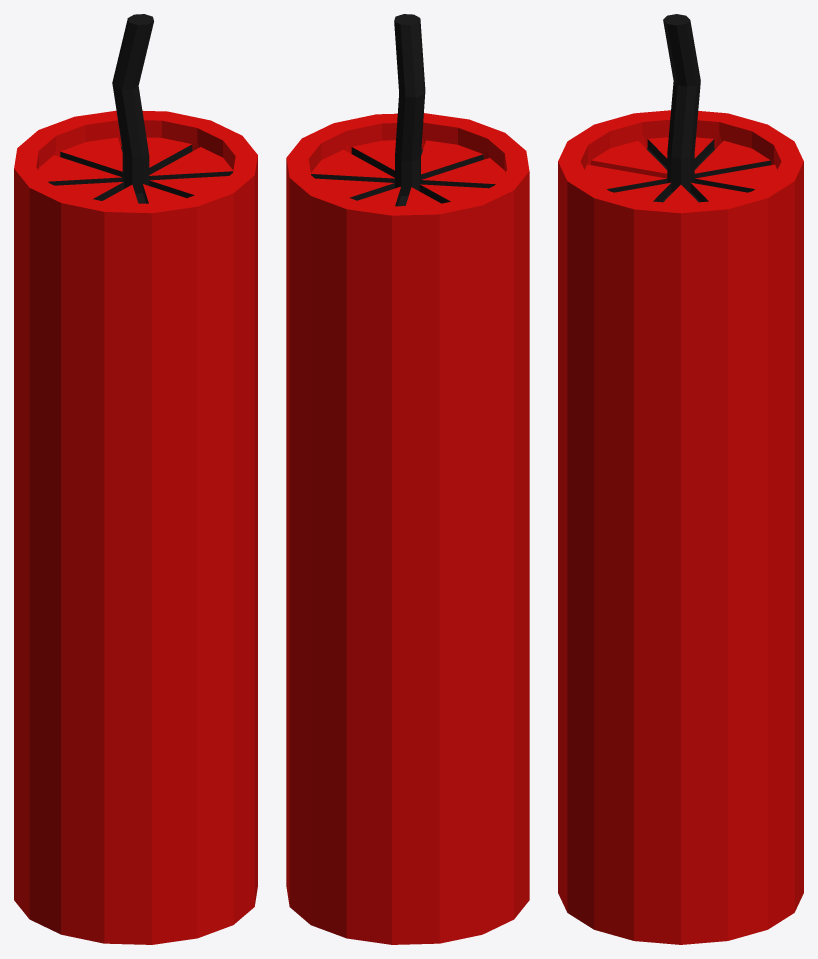
Rendered from Dynamite.fbx.
3 renders of one model, left to right at view 1: azimuth 30°, elevation 25°; view 2: azimuth 150°, elevation 25°; view 3: azimuth 270°, elevation 25°, orthographic.
Parts seen in each view (by area): view 1: Cylinder; view 2: Cylinder; view 3: Cylinder.
Part boxes in pixels (x1,y1,x2,y2): Cylinder: (14,14,257,944); Cylinder: (286,14,529,944); Cylinder: (558,14,803,944).
Size of the model in its own units: 66.94 by 263 by 66.94.
